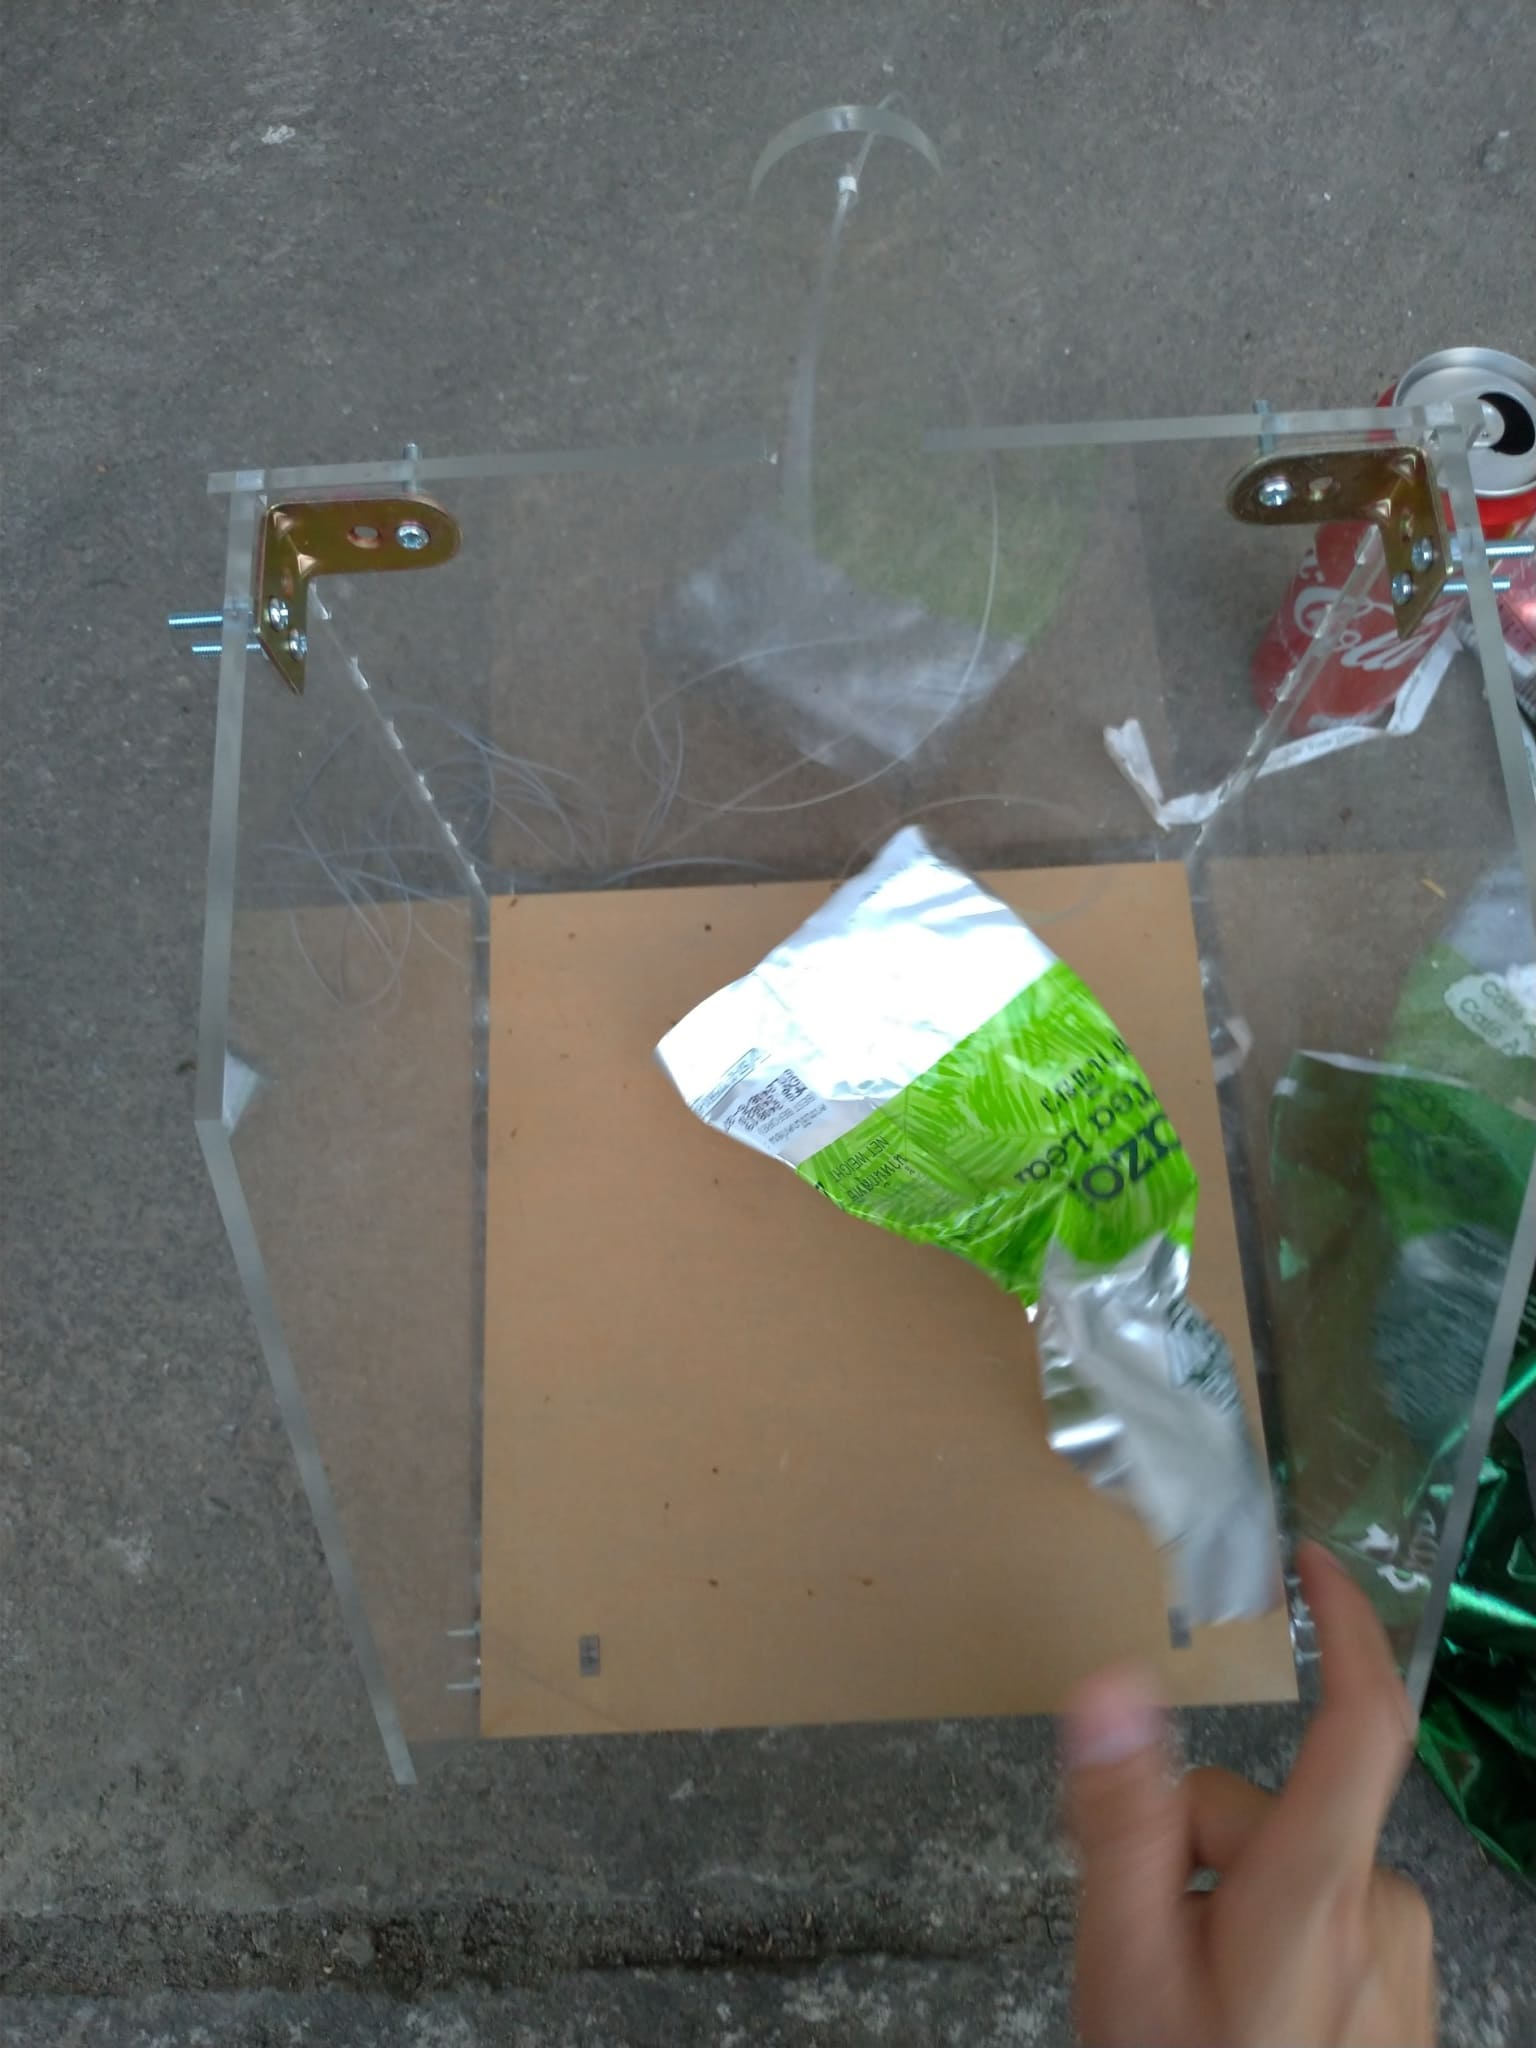AlCan: (1257, 348, 1536, 745)
Others: (657, 822, 1279, 1637), (1260, 1042, 1534, 1880), (1100, 627, 1454, 818)
